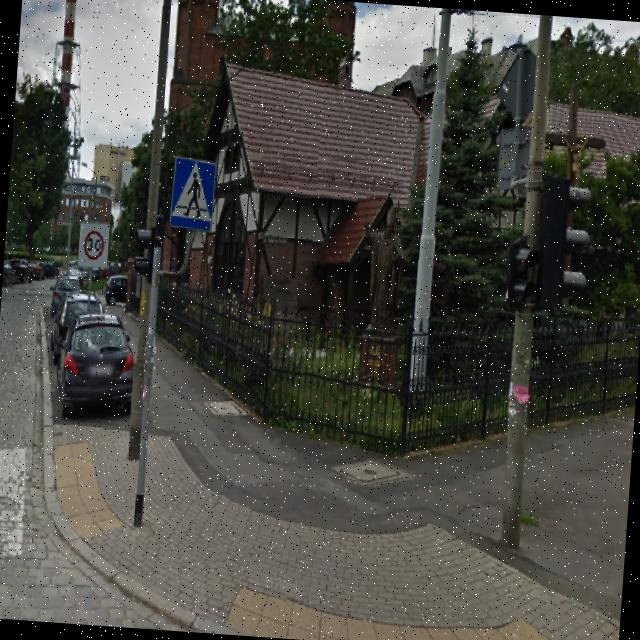Przejscie dla pieszych: (169, 155, 215, 231)
